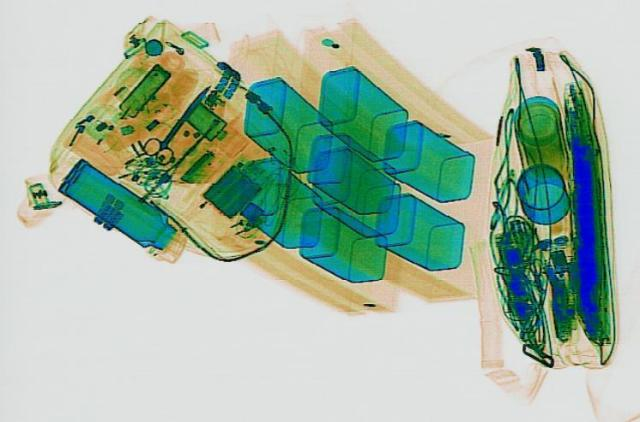Scissors: (130, 80, 232, 165)
